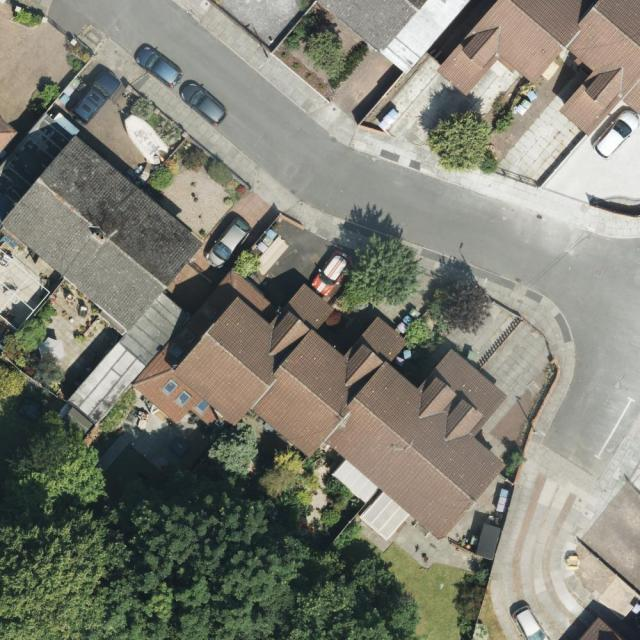roof: (132, 268, 507, 543), (2, 133, 206, 331), (435, 0, 640, 138), (313, 0, 470, 78)
skylight: (174, 388, 193, 409), (162, 377, 178, 397), (194, 398, 212, 412)
